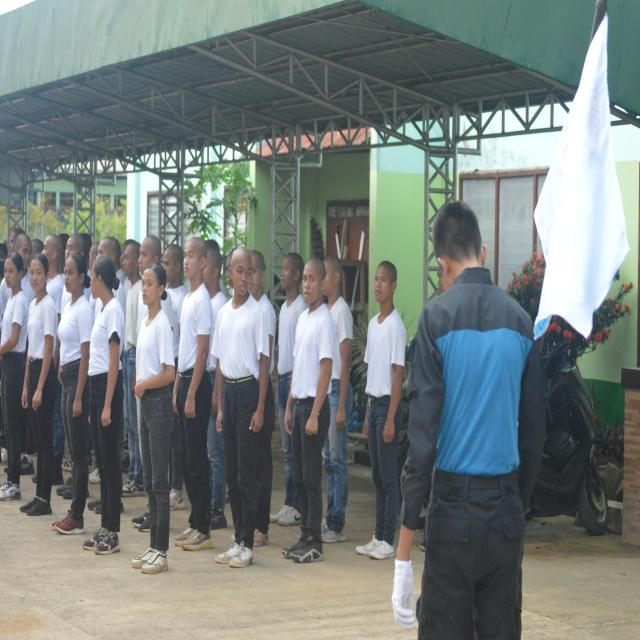person: (392, 202, 546, 639), (212, 248, 269, 567), (283, 258, 335, 563), (357, 262, 406, 559), (132, 264, 174, 573), (83, 257, 124, 554), (173, 238, 212, 550), (53, 253, 93, 534), (270, 253, 305, 526), (22, 254, 57, 515), (323, 257, 353, 543), (248, 251, 276, 546), (0, 254, 28, 499), (122, 241, 144, 496), (208, 392, 227, 530), (163, 244, 186, 343)
